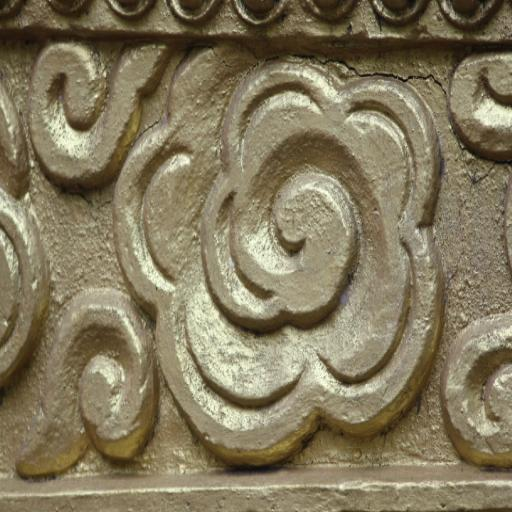hoa: (123, 41, 453, 458)
